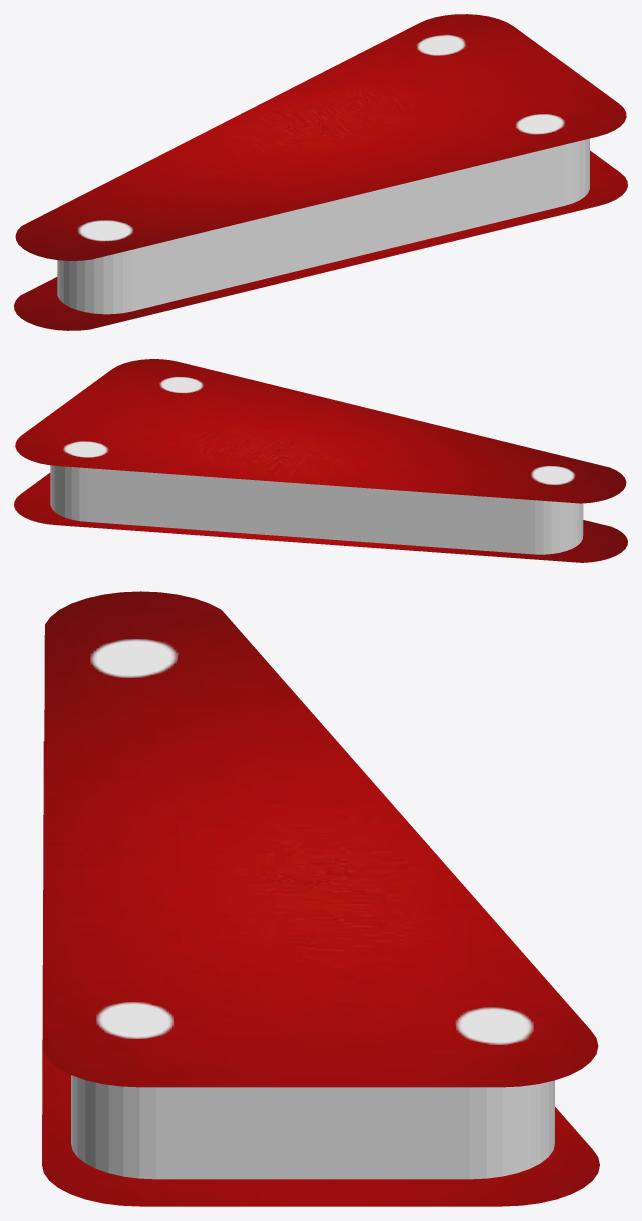
File: Bouncer.obj
The picture shows the model from 3 angles, top to bottom: view 1: azimuth 30°, elevation 25°; view 2: azimuth 150°, elevation 25°; view 3: azimuth 270°, elevation 25°; orthographic projection. The views are drawn at different scales.
Visible parts, largest first — view 1: Cube; view 2: Cube; view 3: Cube.
Boxes of the visible parts, x1,y1,x2,y2 form: Cube: [14, 14, 627, 330]; Cube: [14, 359, 627, 562]; Cube: [42, 591, 599, 1206].
Size of the model in its own units: 13.86 by 1.53 by 6.56.
